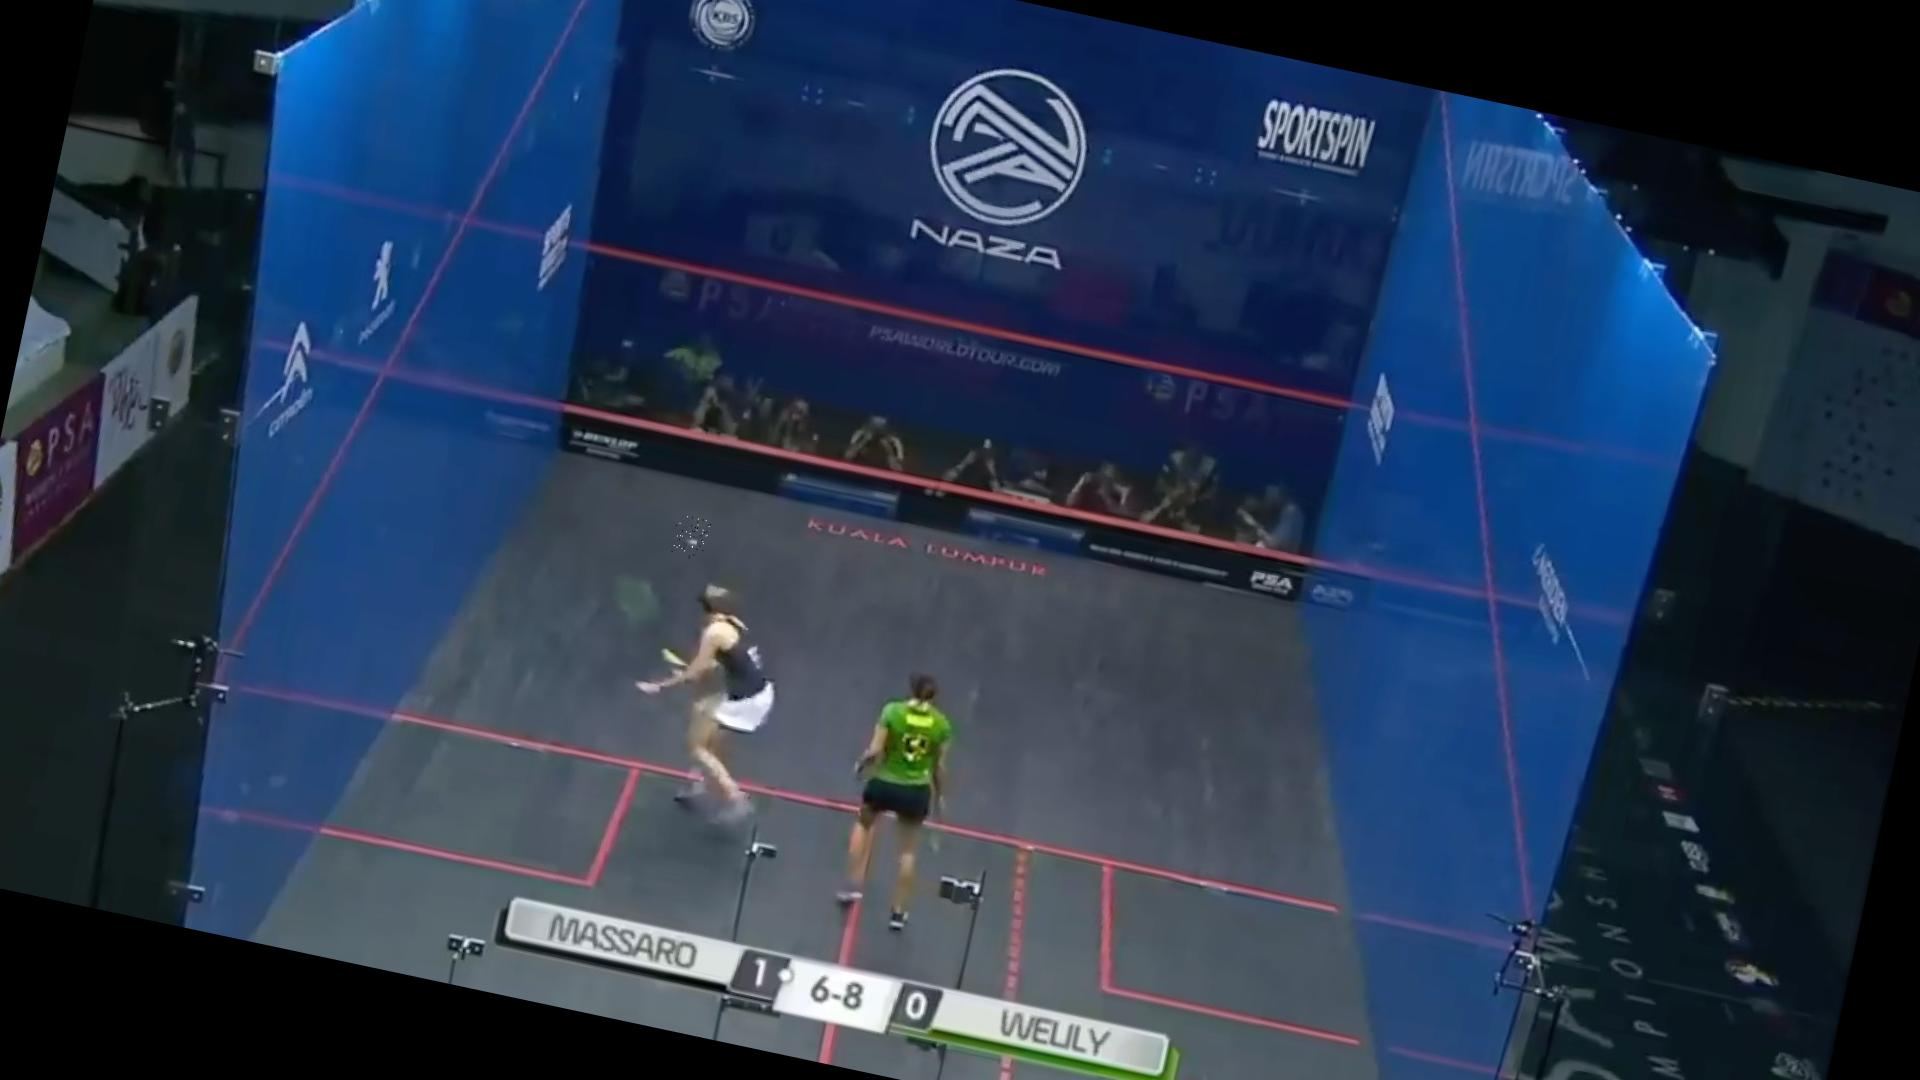Squash-Ball: (670, 513, 712, 560)
